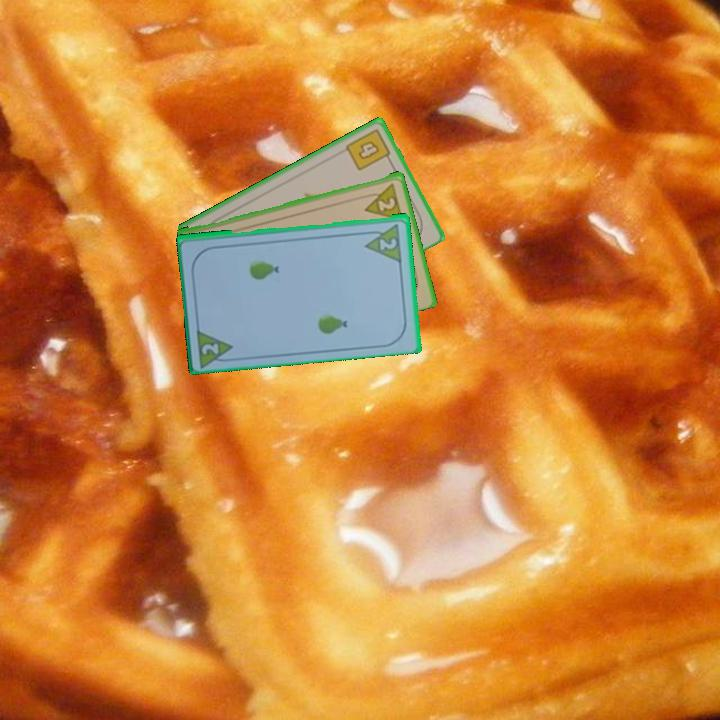2p: (359, 179, 406, 222), (376, 233, 400, 253), (198, 339, 222, 357)
4b: (342, 125, 395, 173)
